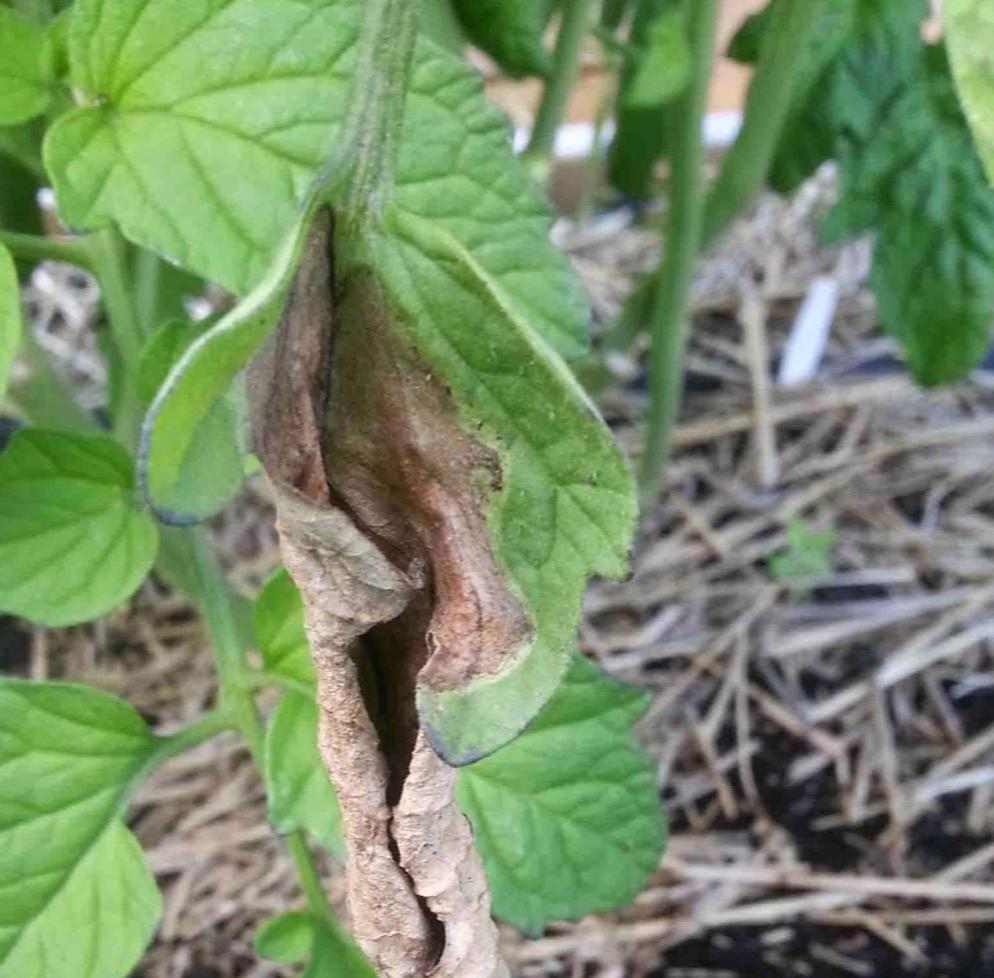Tomato leaf late blight: (164, 149, 632, 978)
